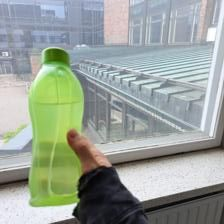bottle: (26, 46, 86, 207)
